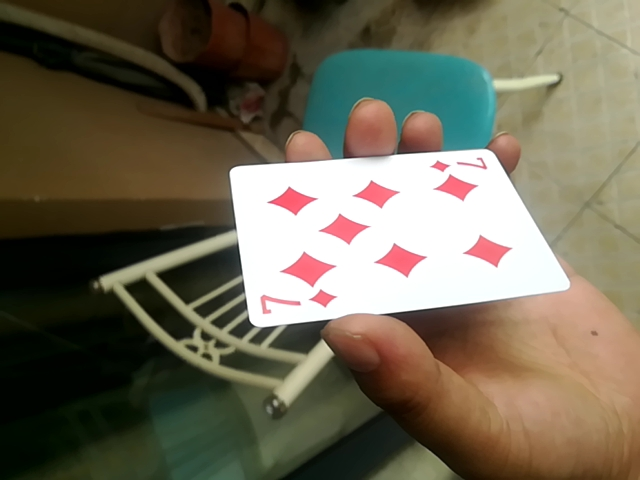fk 7: (222, 149, 567, 329)
